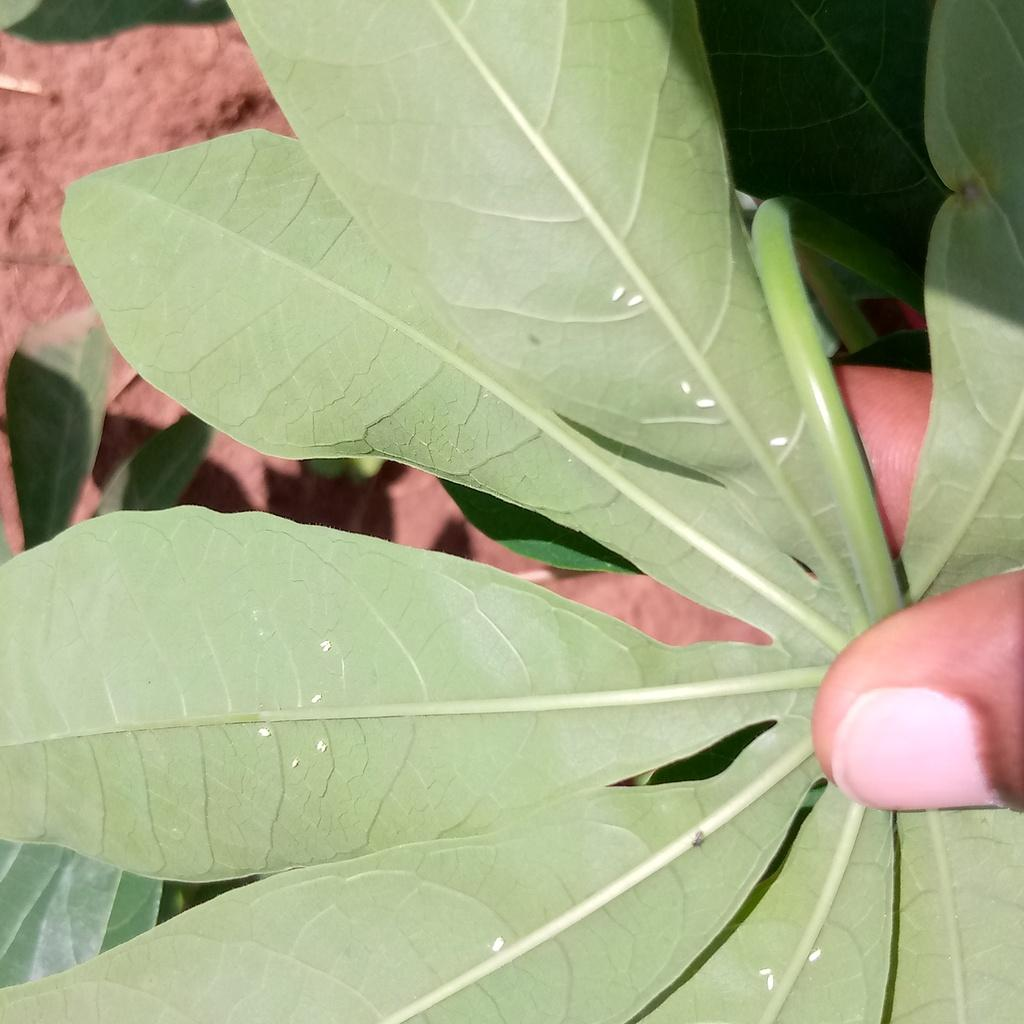adult: (491, 937, 505, 952), (696, 398, 715, 409), (611, 287, 625, 301), (627, 294, 642, 307), (808, 949, 821, 963), (770, 437, 788, 447), (319, 640, 332, 652), (316, 739, 327, 753), (258, 727, 271, 738), (766, 975, 774, 992), (310, 693, 322, 704), (759, 968, 772, 978), (681, 381, 691, 394), (291, 758, 299, 769)
